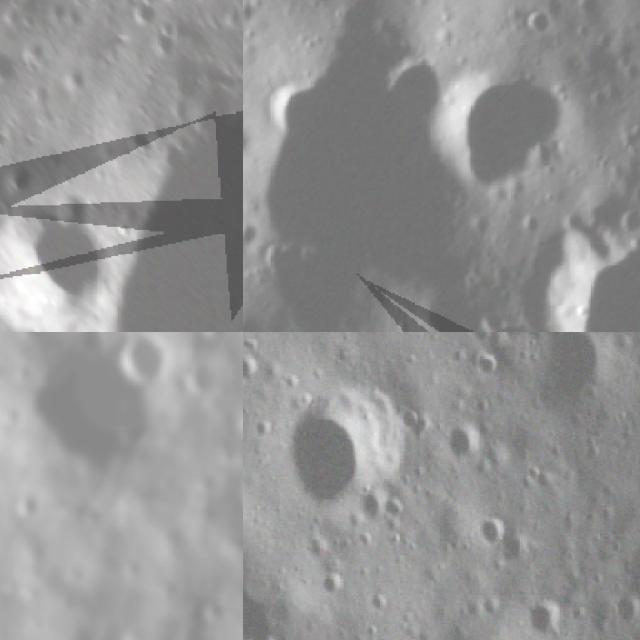crater: (429, 41, 593, 209), (1, 336, 163, 475), (279, 385, 416, 516), (0, 213, 118, 332), (544, 201, 640, 332), (531, 332, 625, 418), (115, 332, 169, 384), (179, 356, 227, 404), (444, 417, 492, 465), (243, 208, 273, 274), (243, 111, 269, 178), (520, 2, 562, 43), (527, 594, 564, 640), (468, 509, 508, 547), (4, 160, 41, 194), (357, 488, 390, 526), (399, 408, 431, 445), (612, 588, 640, 628), (320, 564, 347, 604), (16, 488, 50, 518), (473, 349, 502, 382), (362, 588, 393, 617), (248, 416, 276, 446), (243, 351, 265, 389), (572, 0, 606, 23), (384, 492, 409, 522), (481, 590, 507, 618), (205, 594, 225, 626), (300, 0, 348, 13), (78, 499, 102, 523), (464, 332, 497, 349), (512, 332, 551, 342), (195, 332, 238, 341), (582, 332, 617, 338)
